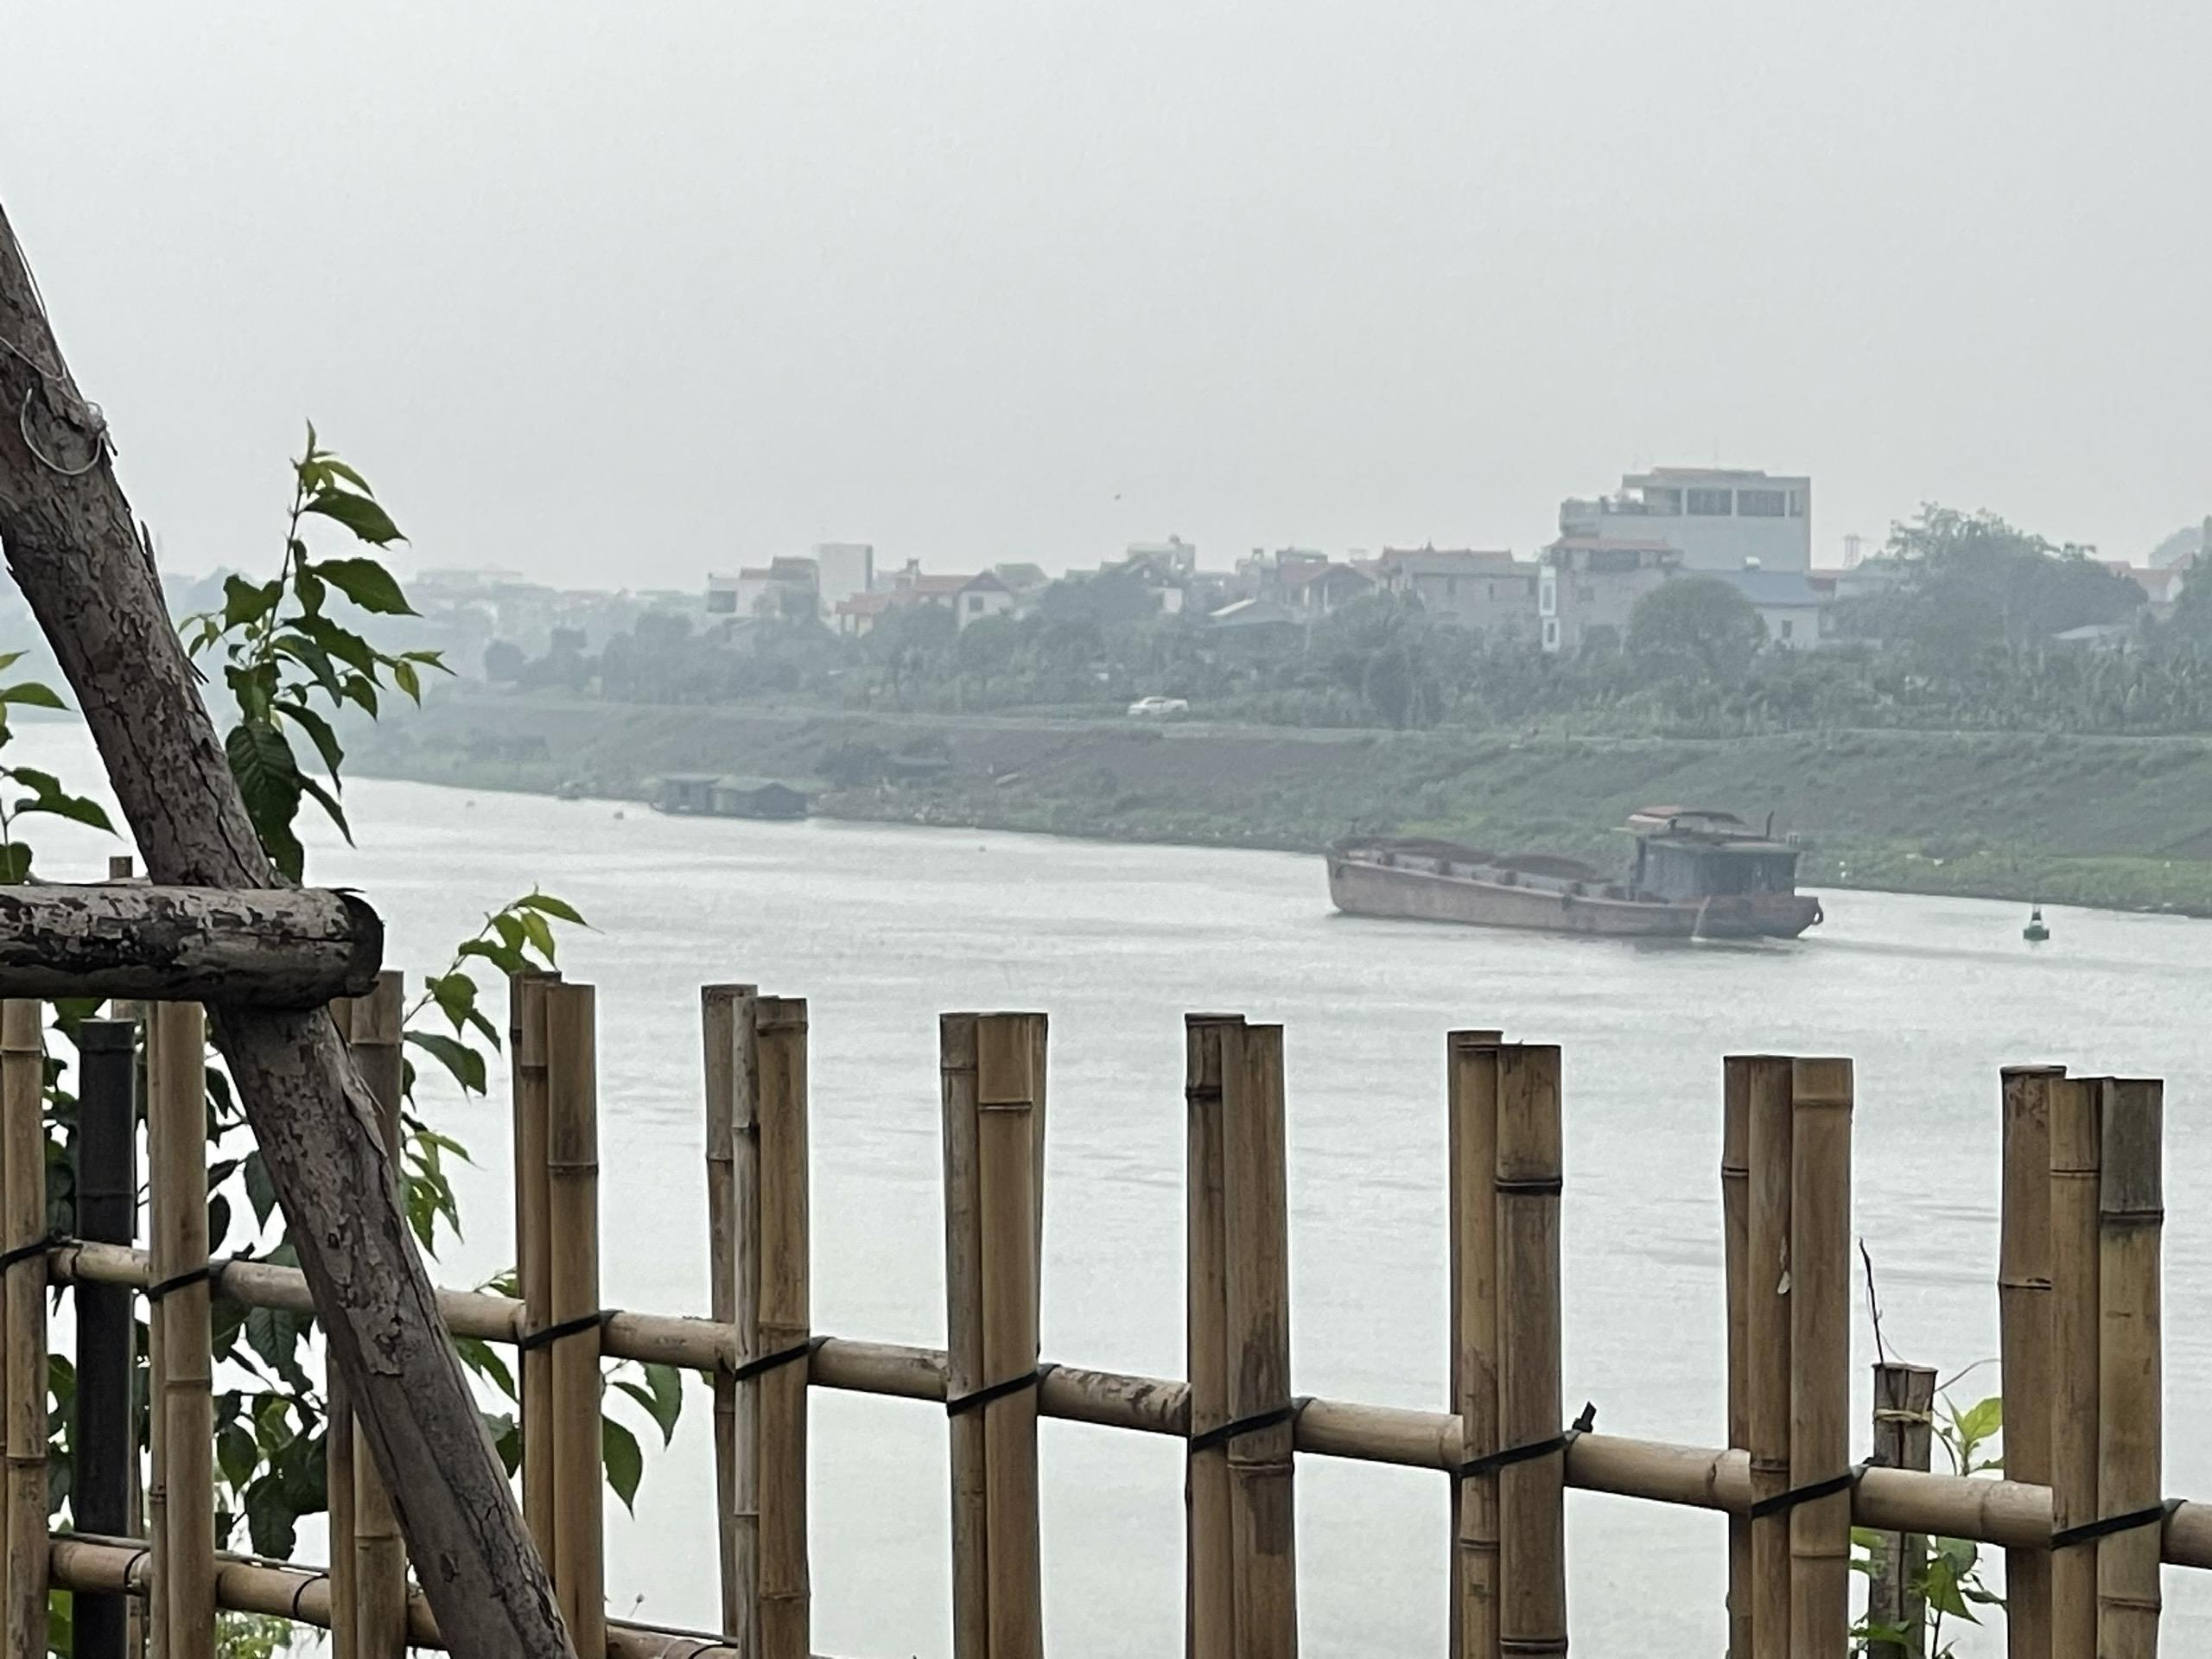Ship: (1310, 800, 1832, 946)
